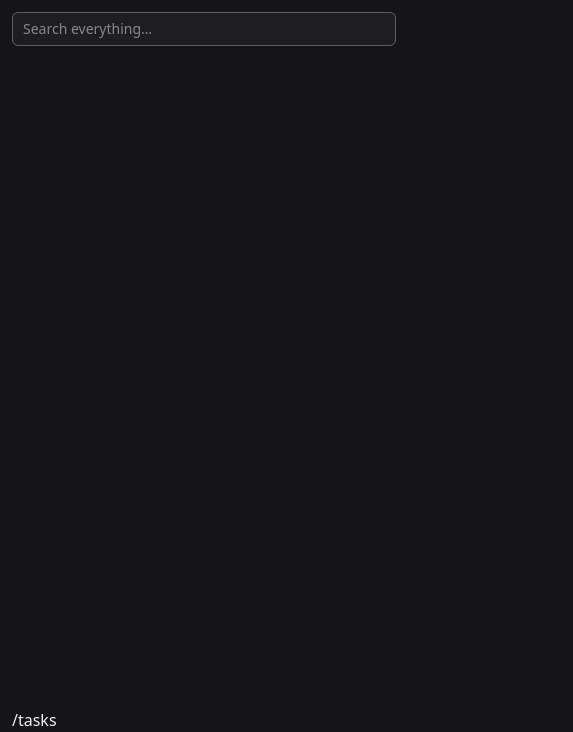
Test case: GlobalSearch › shows each hit with its title, the words around the match, “…” where the text goes on, and its page
In the search field: (204, 29) [12,12,396,46], type "brake"
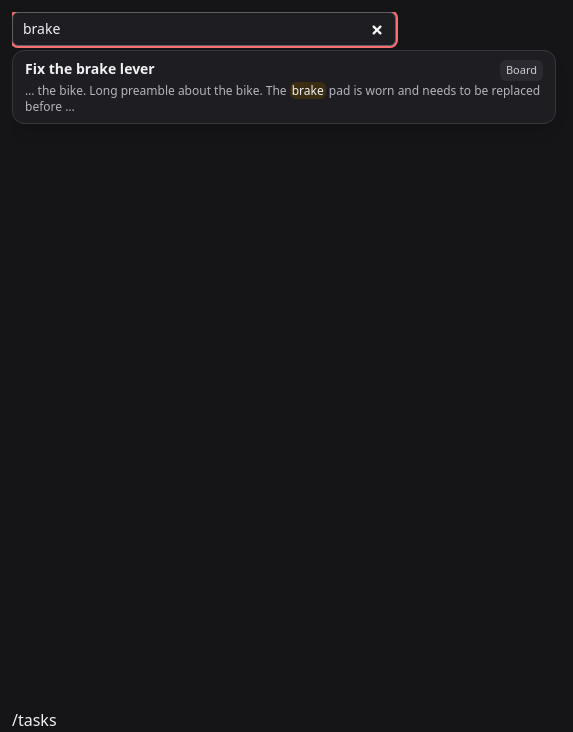
Now the text "Fix the brake lever" is shown, box [25,59,155,79]
Now the text "Board" is shown, box [500,60,543,80]
Now the text "brake" is shown, box [290,82,326,98]
